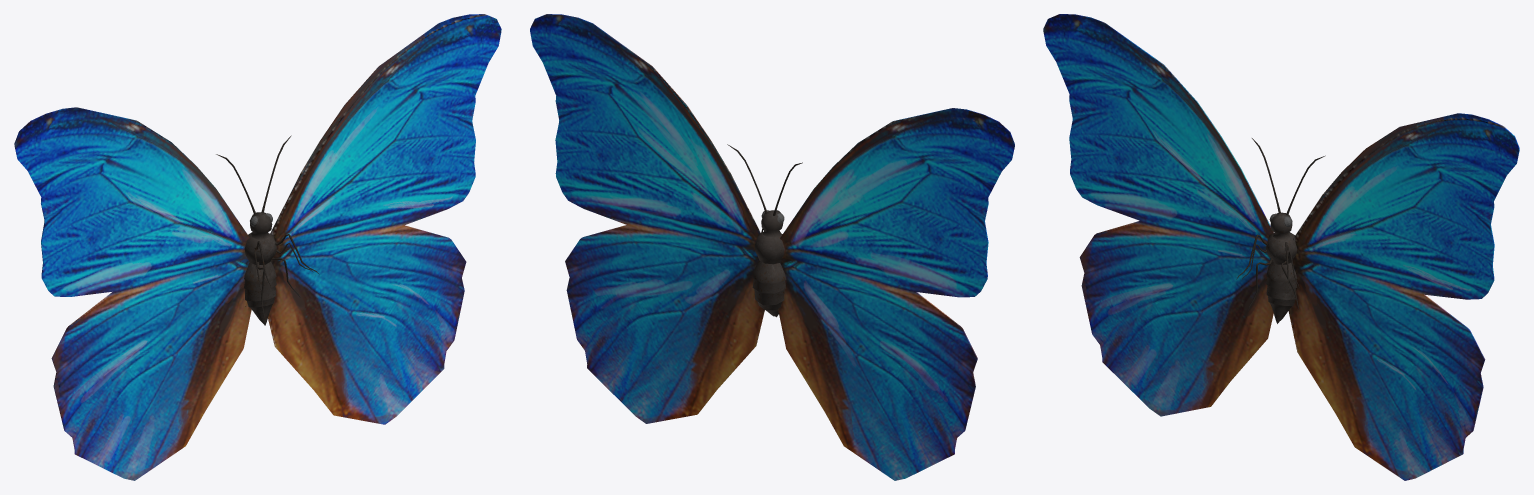
The model's file is butterfly.glb.
The picture shows the model from 3 angles, left to right: view 1: azimuth 30°, elevation 25°; view 2: azimuth 150°, elevation 25°; view 3: azimuth 330°, elevation 25°; orthographic projection. The views are drawn at different scales.
Visible parts, largest first — view 1: wing_02, wing_01, Butterfly_tri_torso_leg_01; view 2: wing_02, wing_01, Butterfly_tri_torso_leg_01; view 3: wing_01, wing_02, Butterfly_tri_torso_leg_01.
Part boxes in pixels (x1=…): wing_02: x1=14, y1=107, x2=251, y2=480; wing_01: x1=268, y1=14, x2=501, y2=424; Butterfly_tri_torso_leg_01: x1=216, y1=135, x2=319, y2=325; wing_02: x1=778, y1=108, x2=1014, y2=480; wing_01: x1=530, y1=14, x2=764, y2=423; Butterfly_tri_torso_leg_01: x1=727, y1=144, x2=802, y2=317; wing_01: x1=1288, y1=113, x2=1519, y2=480; wing_02: x1=1043, y1=14, x2=1273, y2=416; Butterfly_tri_torso_leg_01: x1=1236, y1=138, x2=1325, y2=323.
Bounding box in the file's own units: 4.81 × 3.73 × 0.6834.
1 material, 1 textured.
